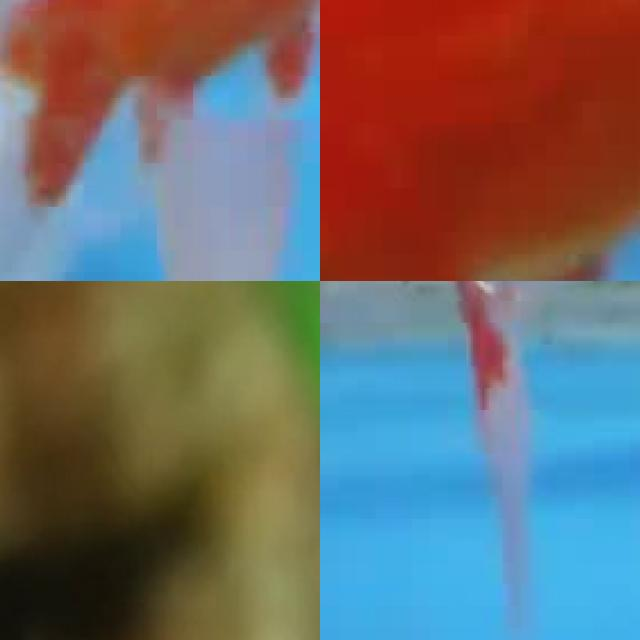fish: (0, 0, 320, 281), (0, 475, 243, 640)
